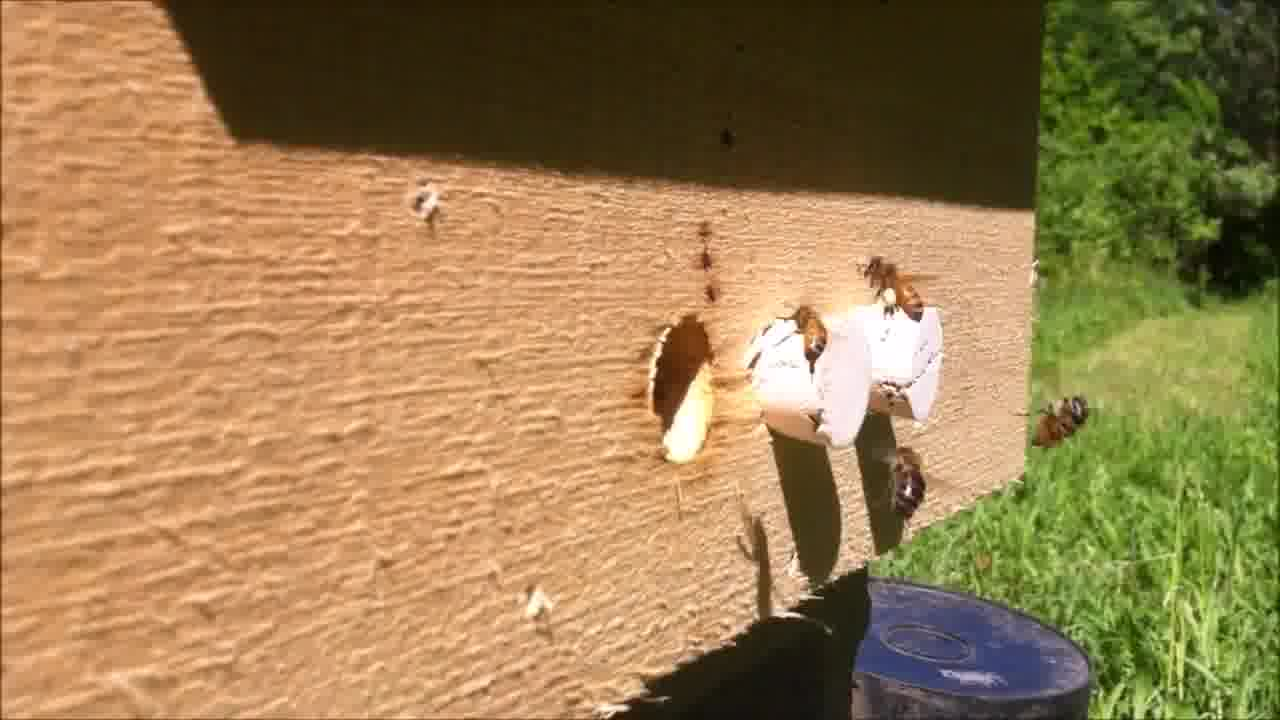pollen: (858, 250, 930, 321)
